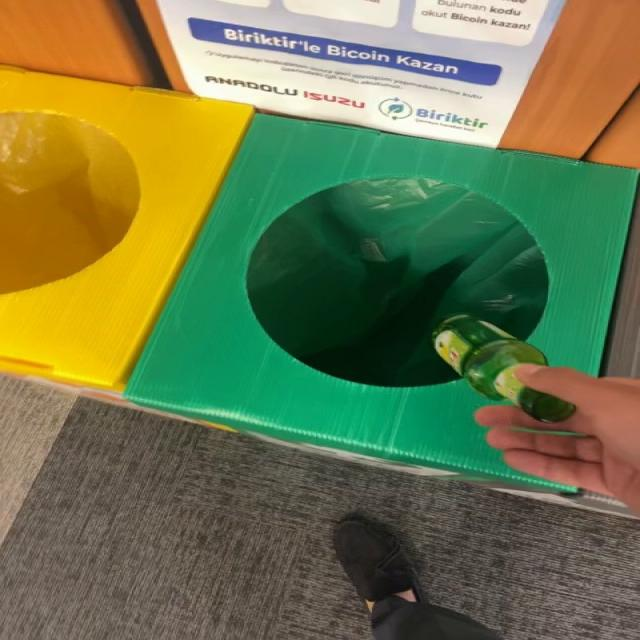glass: (433, 315, 575, 422)
